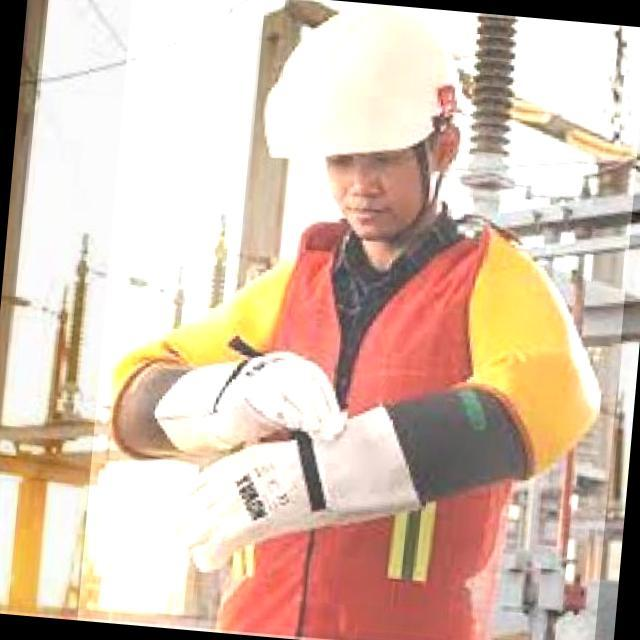Gloves: (169, 385, 445, 579), (106, 345, 354, 471)
Helmet: (248, 0, 480, 189)
Person: (68, 0, 616, 640)
Safety Vest: (198, 211, 532, 640)
